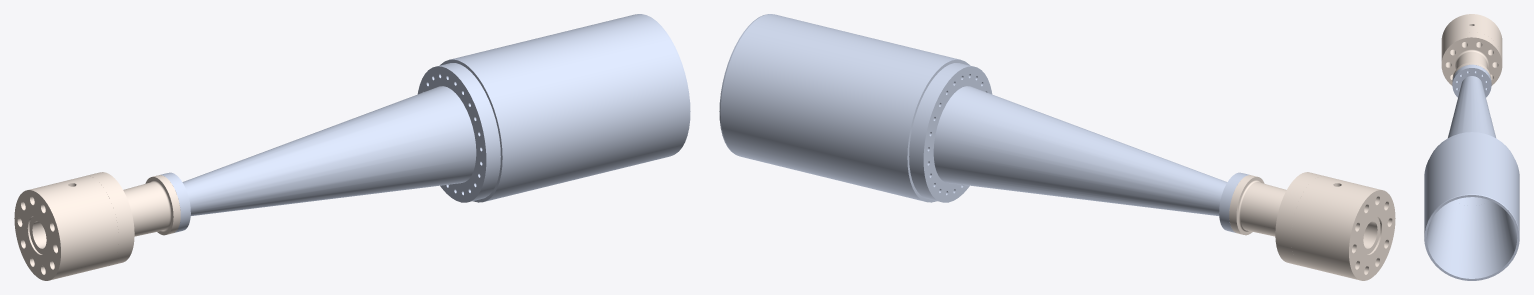
File: ConicalNozzleAssembly.glb
3 views of the same model, side by side, from view 1: azimuth 30°, elevation 25°; view 2: azimuth 150°, elevation 25°; view 3: azimuth 270°, elevation 25° (orthographic). The views are drawn at different scales.
Parts seen in each view (by area): view 1: NozzleExit-2, Divergence1-1, Convergence-1, DivergenceStart-1; view 2: NozzleExit-2, Divergence1-1, Convergence-1, DivergenceStart-1; view 3: NozzleExit-2, Divergence1-1, DivergenceStart-1, Convergence-1.
Boxes of the visible parts, <box> form: NozzleExit-2: <box>440,14,690,202</box>; Divergence1-1: <box>160,63,500,232</box>; Convergence-1: <box>14,176,118,280</box>; DivergenceStart-1: <box>86,172,180,266</box>; NozzleExit-2: <box>719,14,969,202</box>; Divergence1-1: <box>909,63,1249,232</box>; Convergence-1: <box>1291,176,1395,280</box>; DivergenceStart-1: <box>1229,172,1323,266</box>; NozzleExit-2: <box>1424,134,1519,280</box>; Divergence1-1: <box>1431,64,1512,205</box>; DivergenceStart-1: <box>1441,32,1502,85</box>; Convergence-1: <box>1441,14,1502,74</box>.
Bounding box in the file's own units: 2.14 × 0.4395 × 0.44.
